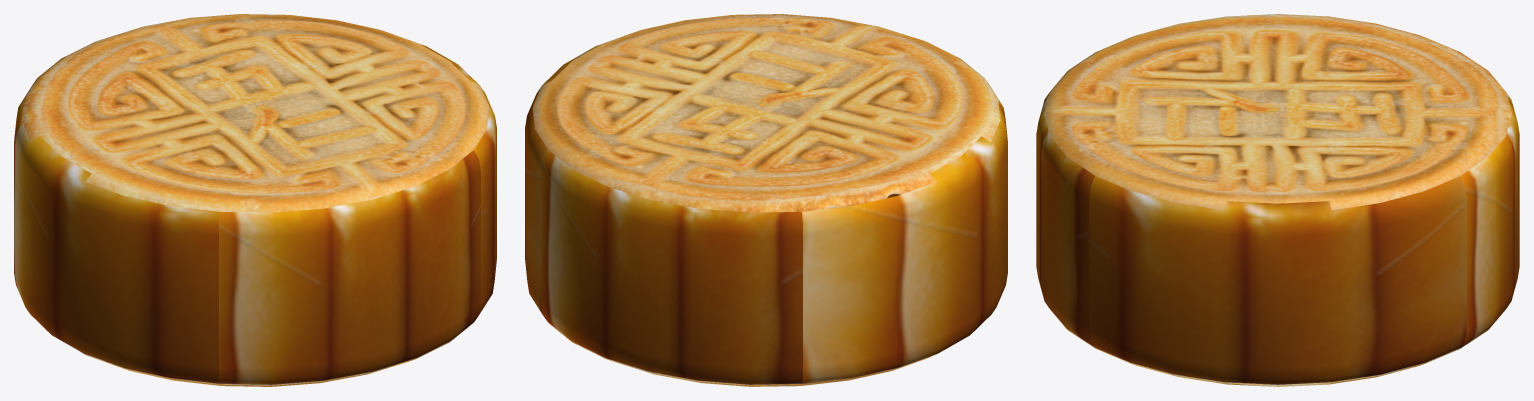
File: shlryb.FBX
The picture shows the model from 3 angles, left to right: view 1: azimuth 30°, elevation 25°; view 2: azimuth 150°, elevation 25°; view 3: azimuth 270°, elevation 25°; orthographic projection.
Parts seen in each view (by area): view 1: Circle001; view 2: Circle001; view 3: Circle001.
Boxes of the visible parts, left/top/right/bottom form: Circle001: left=14, top=14, right=496, bottom=386; Circle001: left=525, top=14, right=1007, bottom=386; Circle001: left=1036, top=14, right=1519, bottom=386.
Bounding box in the file's own units: 0.0818 × 0.0349 × 0.0818.
